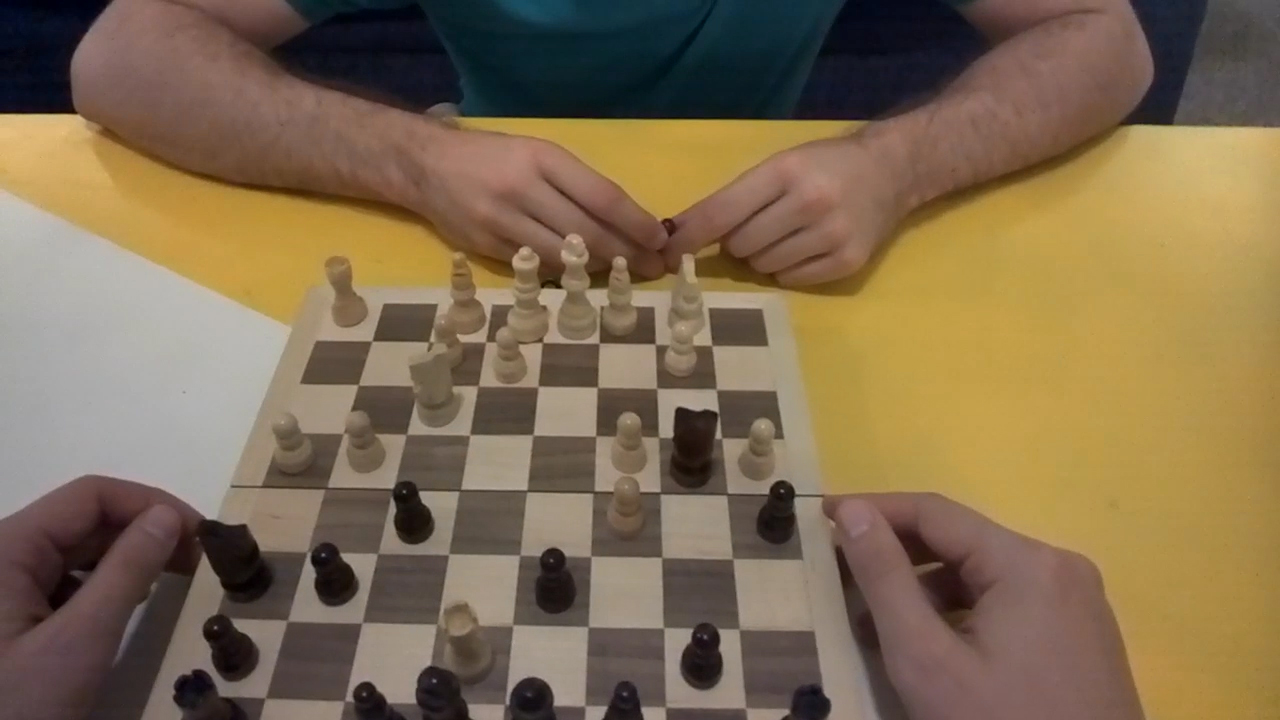hand: (823, 496, 1135, 716), (0, 476, 204, 717), (425, 125, 661, 273), (662, 138, 898, 280)
